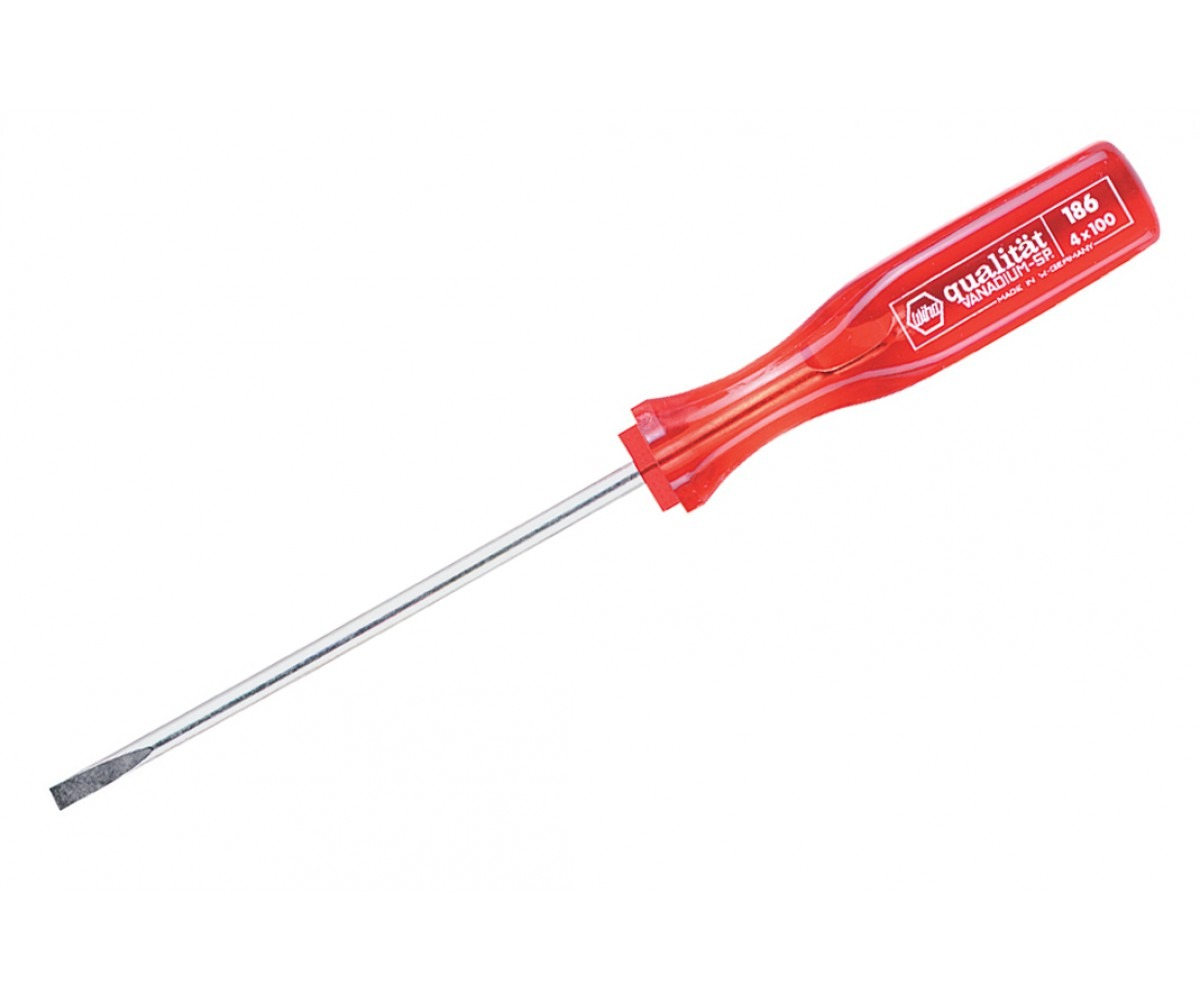screwdriver: (49, 119, 1166, 820)
